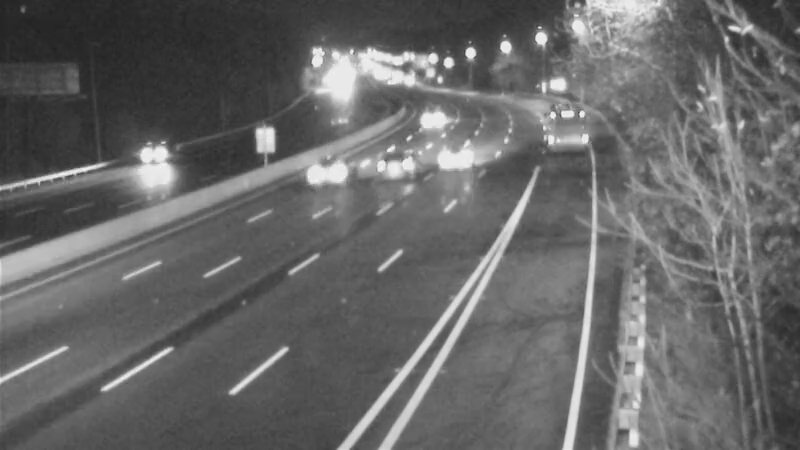vehicle: (289, 135, 369, 215), (407, 118, 487, 198), (352, 124, 432, 204), (114, 117, 194, 197), (521, 86, 571, 136), (405, 93, 455, 143)
